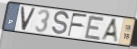3: (34, 8, 52, 35)
A: (100, 18, 119, 45)
E: (83, 14, 106, 42)
F: (67, 13, 89, 38)
S: (50, 10, 70, 36)
V: (20, 6, 37, 32)
